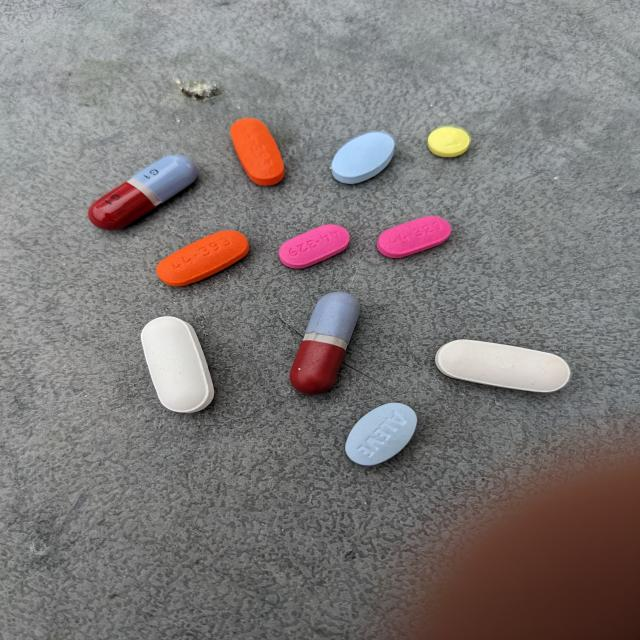non-organic waste: (87, 154, 198, 231), (140, 315, 217, 415), (289, 291, 362, 396), (434, 338, 570, 394), (155, 229, 251, 288), (344, 401, 419, 467), (230, 118, 286, 187), (329, 131, 396, 185), (278, 223, 351, 270), (376, 215, 452, 259), (426, 127, 471, 159)
